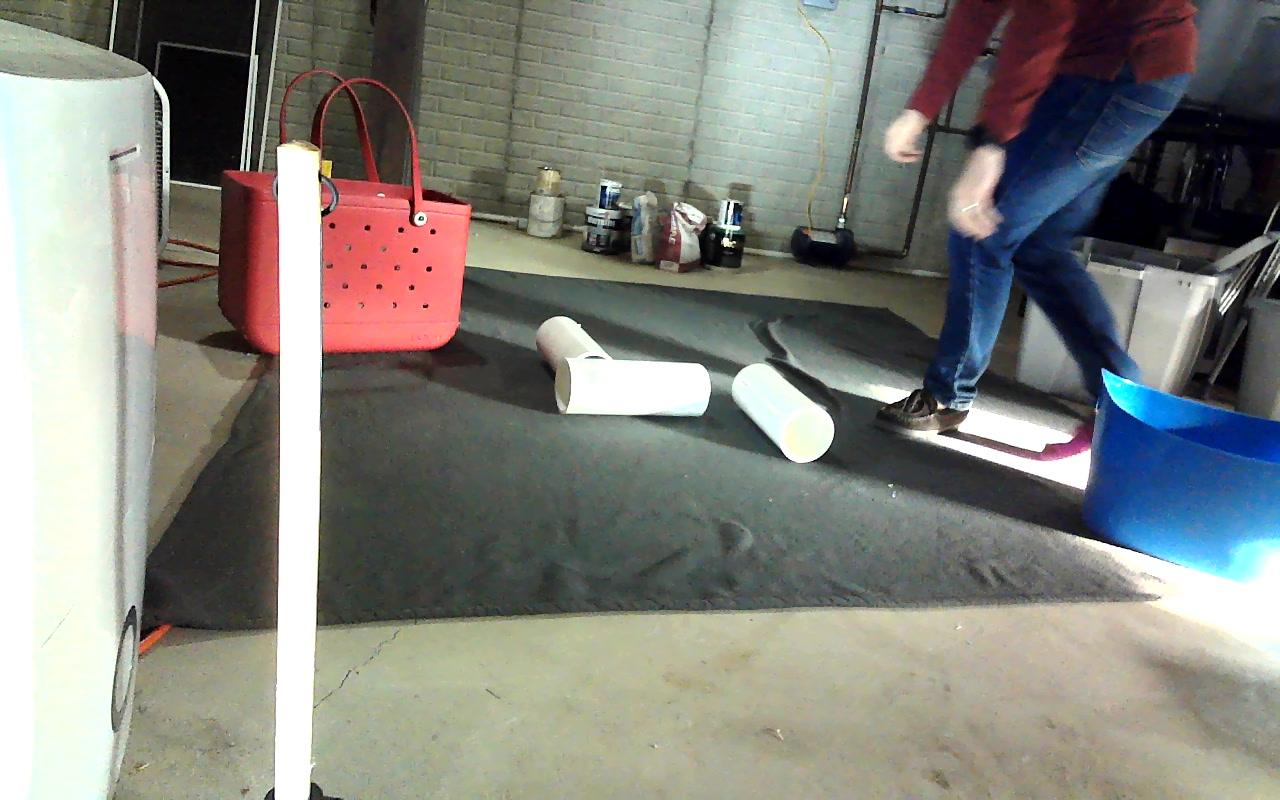coral: (731, 361, 833, 462), (553, 358, 711, 417), (536, 316, 610, 390)
